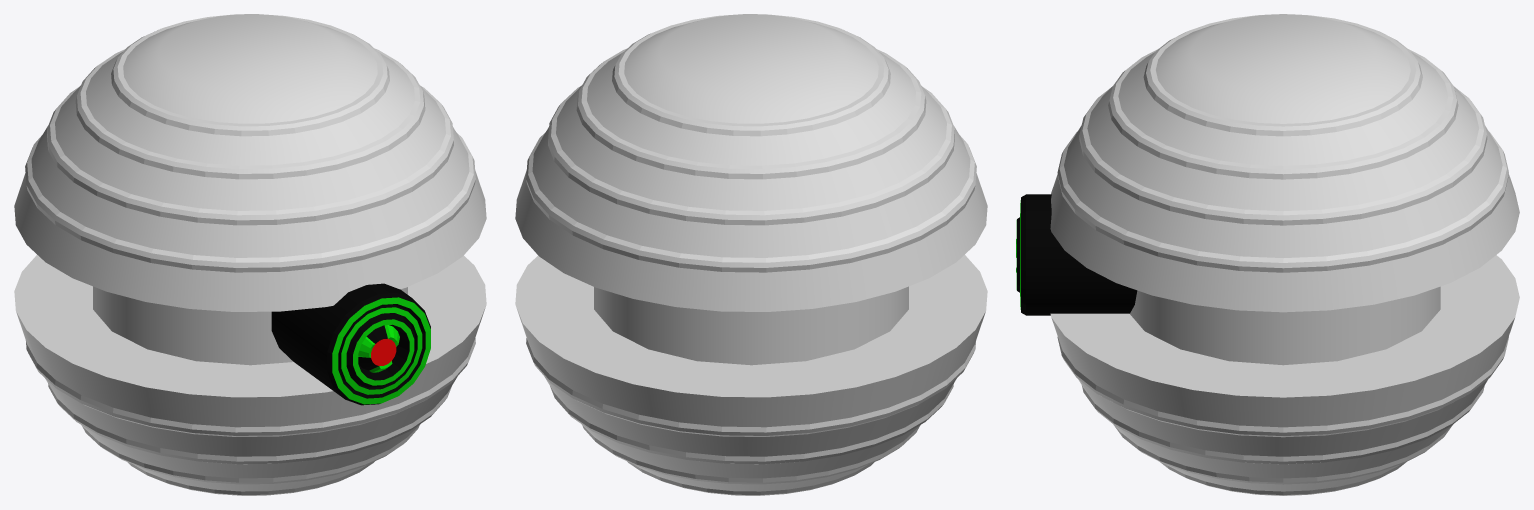
Rendered from beholder.FBX.
3 renders of one model, left to right at view 1: azimuth 30°, elevation 25°; view 2: azimuth 150°, elevation 25°; view 3: azimuth 270°, elevation 25°, orthographic.
Visible parts, largest first — view 1: Sphere001, Cylinder001, Cylinder002; view 2: Sphere001, Cylinder002; view 3: Sphere001, Cylinder002, Cylinder001.
Boxes of the visible parts, box(x1,y1,x2,y2) form: Sphere001: box(14, 14, 486, 495); Cylinder001: box(271, 283, 430, 405); Cylinder002: box(93, 286, 407, 365); Sphere001: box(515, 14, 987, 495); Cylinder002: box(594, 286, 908, 365); Sphere001: box(1050, 14, 1519, 495); Cylinder002: box(1130, 286, 1440, 365); Cylinder001: box(1016, 194, 1137, 315).
Bounding box in the file's own units: 64.37 × 60.64 × 68.54.
